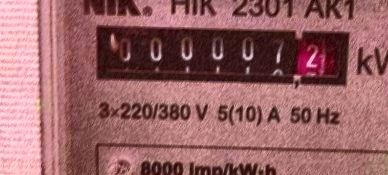0: (176, 33, 195, 61), (146, 34, 164, 63), (238, 33, 255, 62), (115, 35, 133, 62), (208, 33, 224, 61)
2: (303, 40, 320, 70)
7: (268, 36, 285, 65)
screen: (85, 11, 361, 96)
